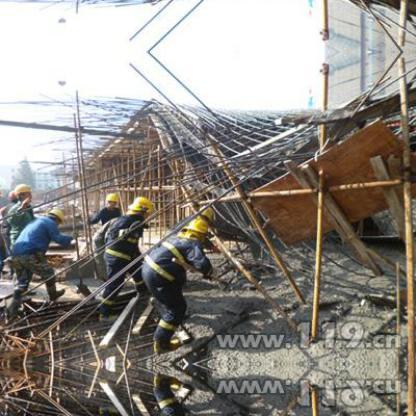helmet: (130, 198, 151, 214), (189, 219, 206, 235), (13, 181, 32, 195), (51, 208, 65, 224), (105, 193, 120, 204), (6, 190, 15, 201)
